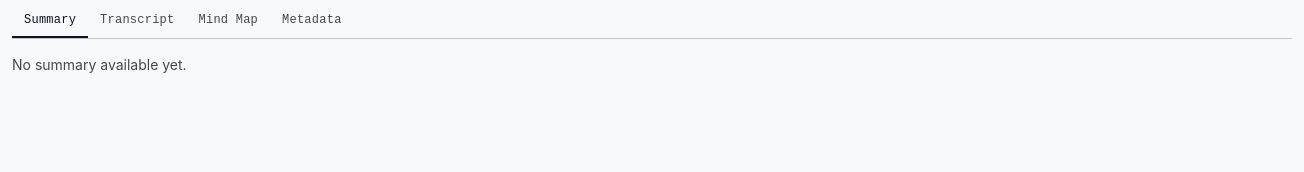
Test: RecordingResults › renders readable empty states for missing transcript and summary
Check: the text "No summary available yet." is shown, box 12,56 -> 187,73
Step 1. Click the tab "Mind Map" → (228, 25), box 186,12 -> 270,38
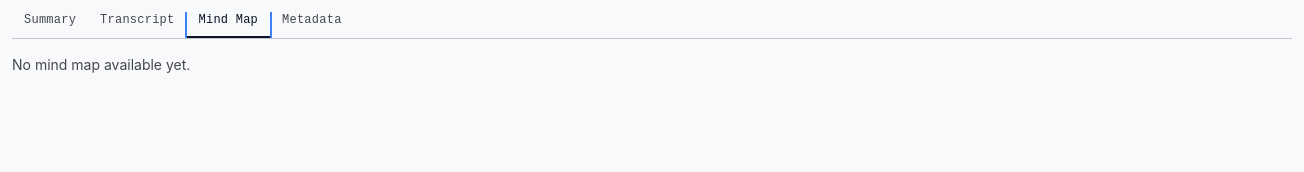
Check: the text "No mind map available yet." is shown, box 12,56 -> 190,73
Step 2. Click the tab "Transcript" → (137, 25), box 88,12 -> 186,38
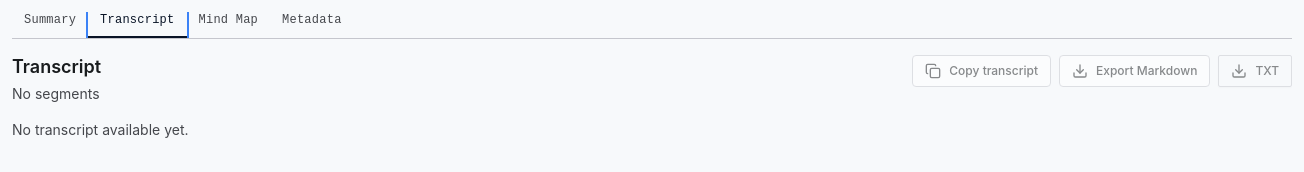
Check: the text "No transcript available yet." is shown, box 12,121 -> 188,138
